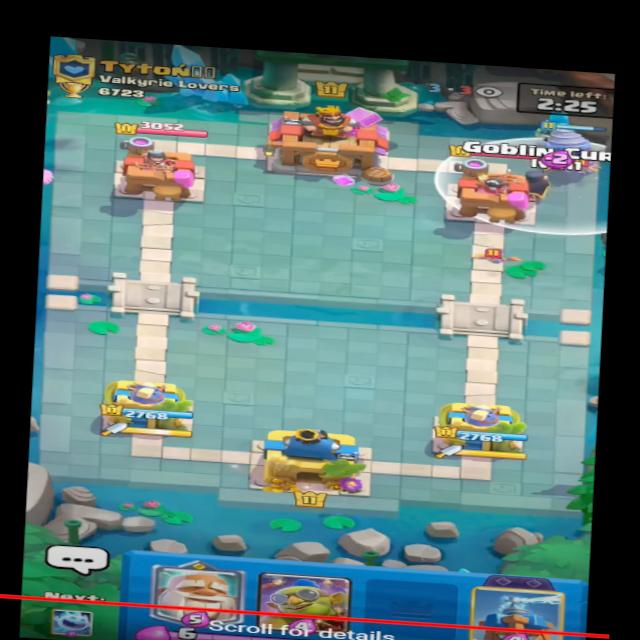bats: (464, 244, 522, 265), (566, 159, 603, 179)
night-witch: (512, 163, 553, 200)
